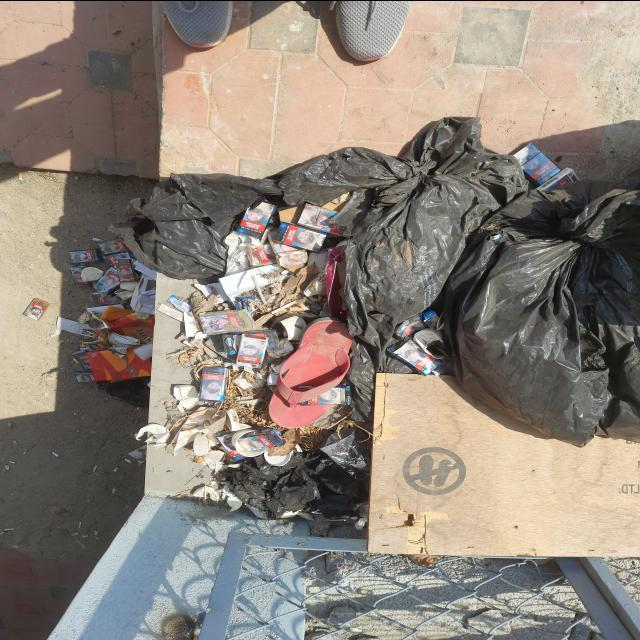Cig_pack: (272, 221, 327, 251)
Garbage: (57, 116, 640, 520)
Plastic_Bag: (443, 171, 640, 445), (555, 362, 558, 365)
